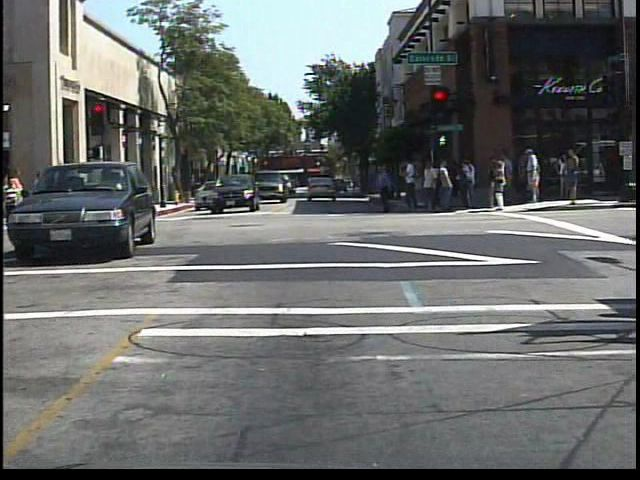person: (520, 147, 546, 206), (36, 173, 59, 232), (4, 177, 24, 217)
